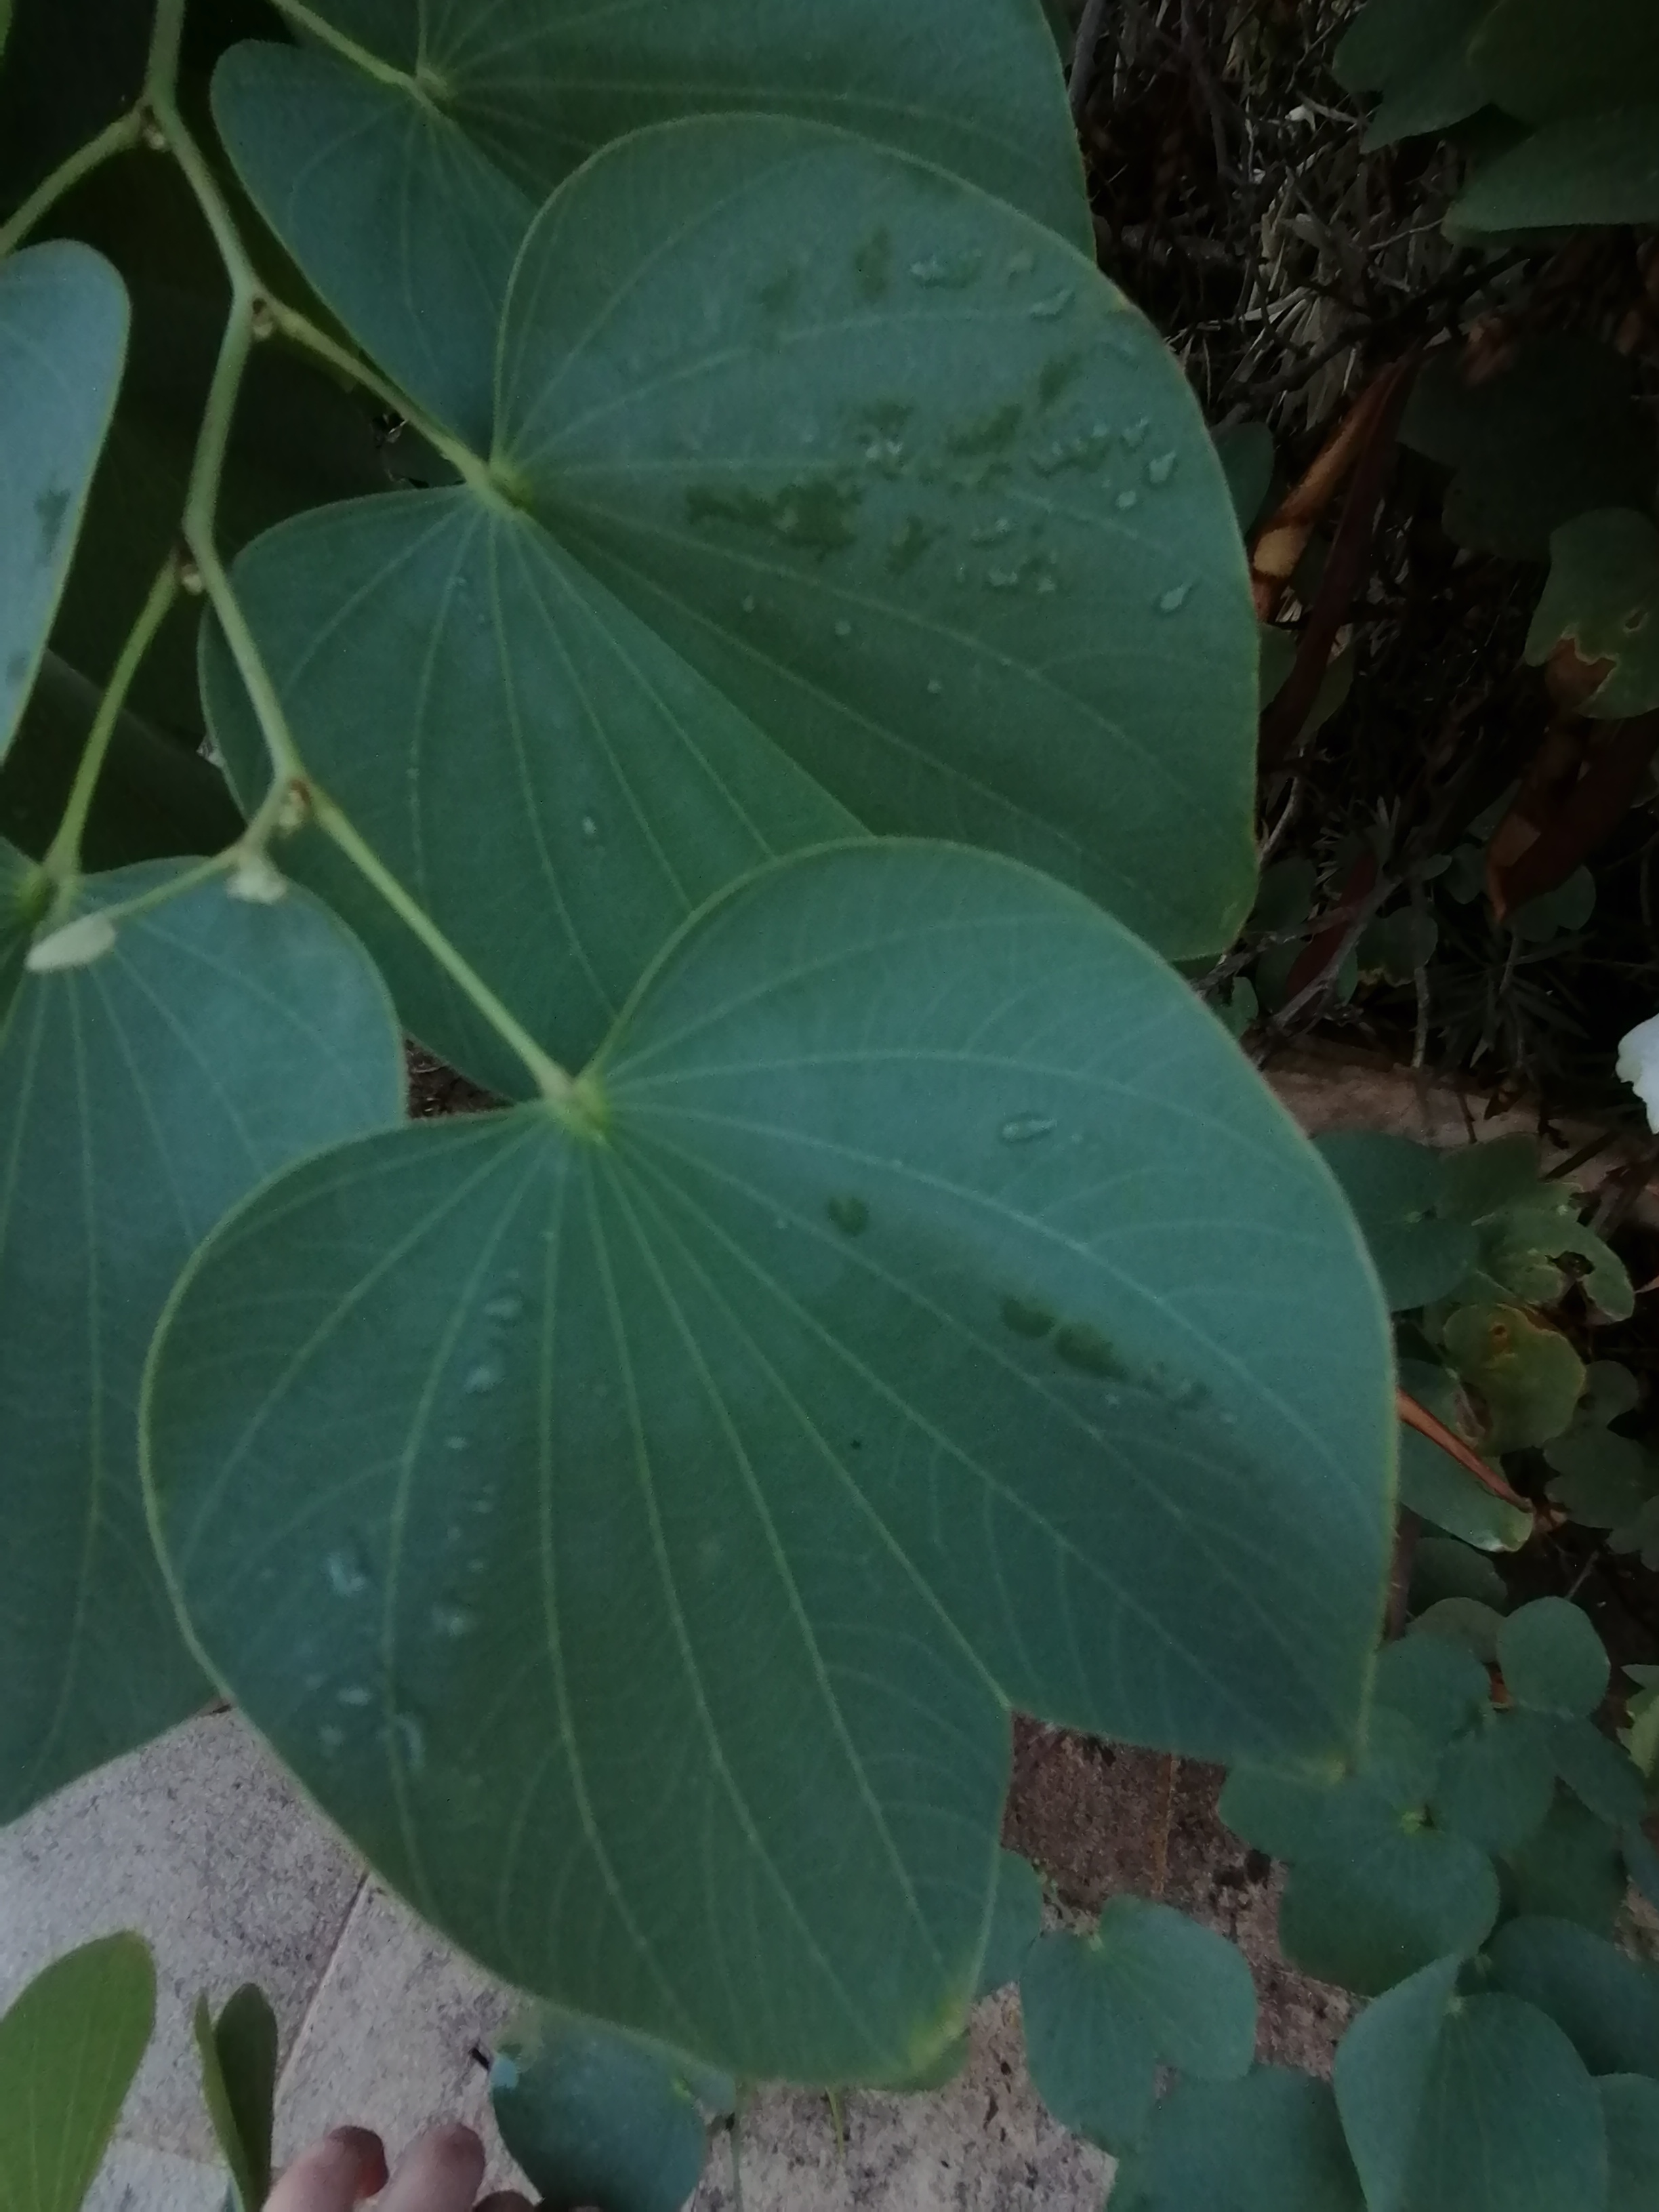healthy: (143, 899, 1403, 2038), (220, 98, 1262, 1118)
